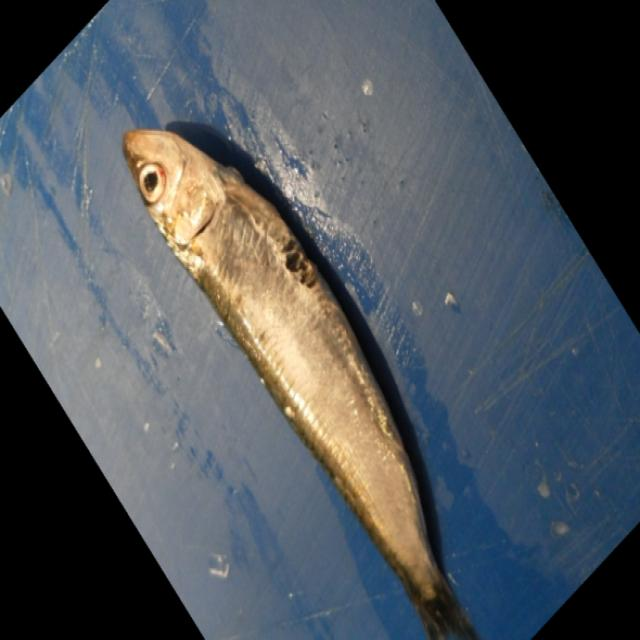Black-Sea-Sprat-tirsi-: (120, 122, 476, 640)
